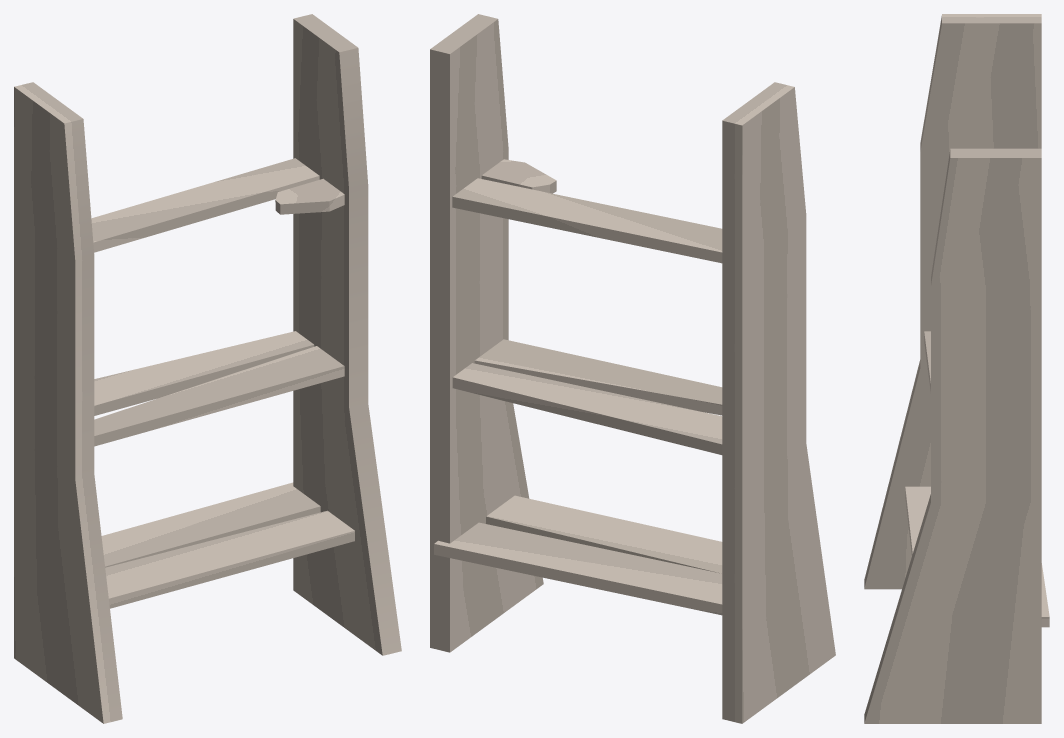
File: Props_Shelf.fbx
3 renders of one model, left to right at view 1: azimuth 30°, elevation 25°; view 2: azimuth 150°, elevation 25°; view 3: azimuth 270°, elevation 25°, orthographic. The views are drawn at different scales.
Visible parts, largest first — view 1: Props_Shelf; view 2: Props_Shelf; view 3: Props_Shelf.
Part boxes in pixels (x1,y1,x2,y2): Props_Shelf: [14, 14, 401, 723]; Props_Shelf: [430, 14, 835, 723]; Props_Shelf: [864, 14, 1049, 723].
Size of the model in its own units: 2.35 by 4.31 by 1.28.
